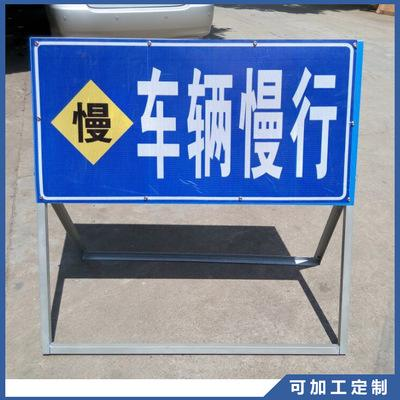sign: (33, 41, 349, 356)
